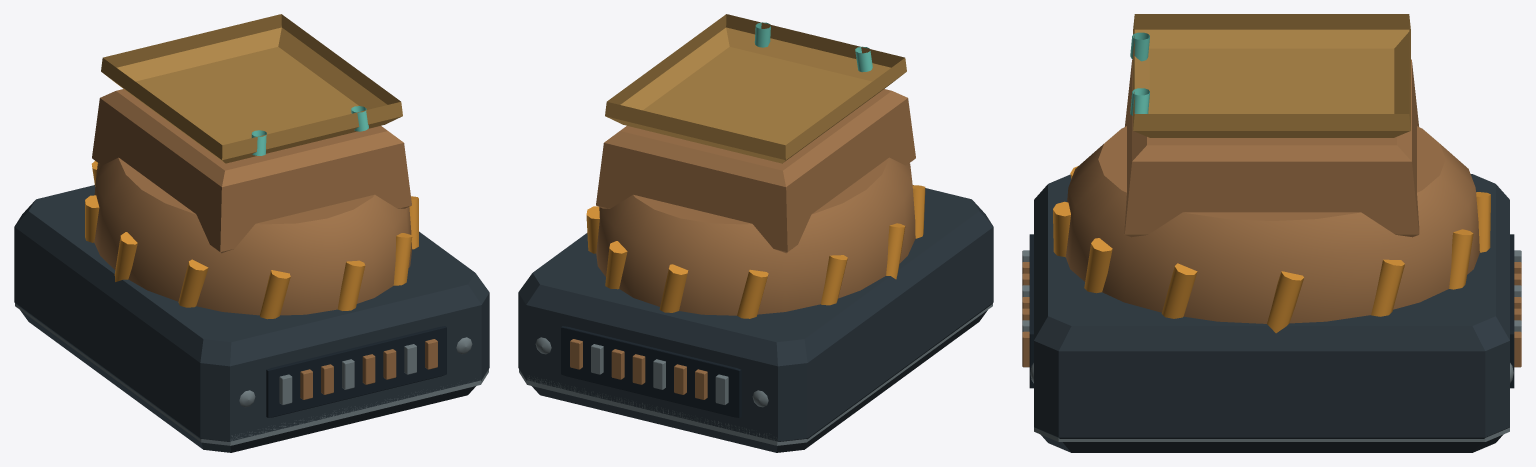
Rendered from wreck_kharon_0.glb.
3 renders of one model, left to right at view 1: azimuth 30°, elevation 25°; view 2: azimuth 150°, elevation 25°; view 3: azimuth 270°, elevation 25°, orthographic. The views are drawn at different scales.
Parts seen in each view (by area): view 1: wreck_kharon_0; view 2: wreck_kharon_0; view 3: wreck_kharon_0.
Boxes of the visible parts, left/top/right/bottom form: wreck_kharon_0: left=14, top=14, right=489, bottom=452; wreck_kharon_0: left=518, top=14, right=993, bottom=452; wreck_kharon_0: left=1022, top=14, right=1521, bottom=452.
Size of the model in its own units: 3.2 by 2.89 by 4.17.
